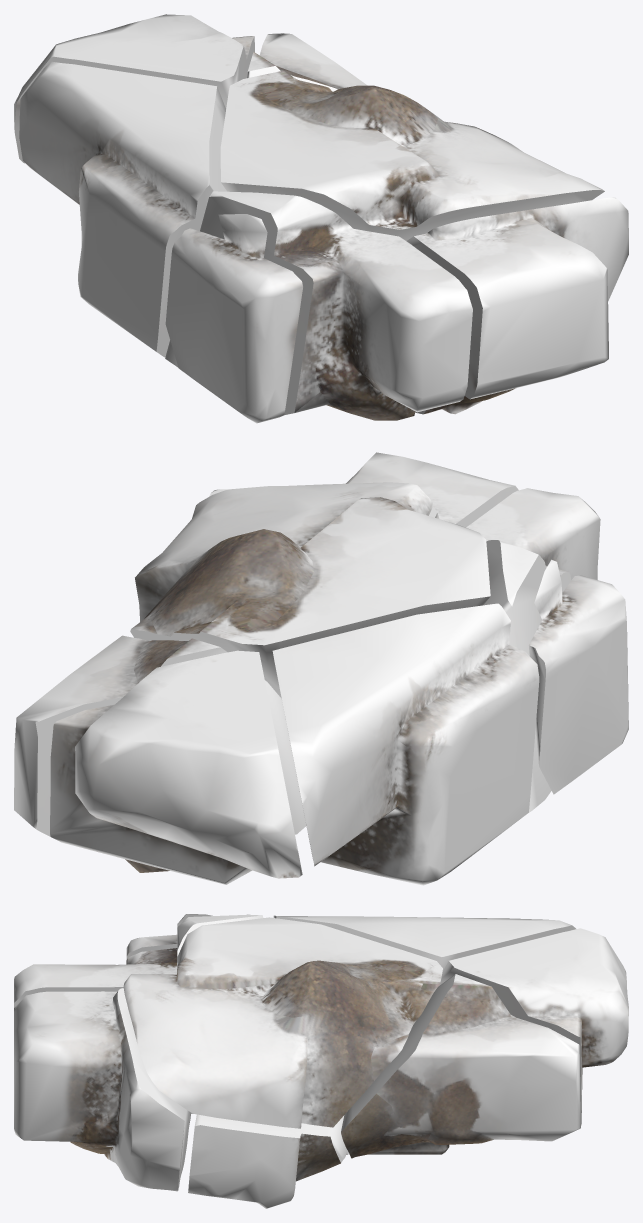
The model's file is SM_MetalNode_4a_Pieces.fbx.
3 renders of one model, top to bottom at view 1: azimuth 30°, elevation 25°; view 2: azimuth 150°, elevation 25°; view 3: azimuth 270°, elevation 25°, orthographic. The views are drawn at different scales.
Parts seen in each view (by area): view 1: SM_MetalNode_4a_Pieces_cell_5, SM_MetalNode_4a_Pieces_cell_2, SM_MetalNode_4a_Pieces_cell_3, SM_MetalNode_4a_Pieces_cell_6, SM_MetalNode_4a_Pieces_cell_1, SM_MetalNode_4a_Pieces_cell_4, SM_MetalNode_4a_Pieces_cell_7; view 2: SM_MetalNode_4a_Pieces_cell_2, SM_MetalNode_4a_Pieces_cell_5, SM_MetalNode_4a_Pieces_cell_4, SM_MetalNode_4a_Pieces_cell_1, SM_MetalNode_4a_Pieces_cell_7, SM_MetalNode_4a_Pieces_cell_3, SM_MetalNode_4a_Pieces_cell_6; view 3: SM_MetalNode_4a_Pieces_cell_5, SM_MetalNode_4a_Pieces_cell_7, SM_MetalNode_4a_Pieces_cell_6, SM_MetalNode_4a_Pieces_cell_4, SM_MetalNode_4a_Pieces_cell_8, SM_MetalNode_4a_Pieces_cell_2, SM_MetalNode_4a_Pieces_cell_3, SM_MetalNode_4a_Pieces_cell_1.
Part boxes in pixels (x1,y1,x2,y2): SM_MetalNode_4a_Pieces_cell_5: (220,70,604,240); SM_MetalNode_4a_Pieces_cell_2: (19,61,226,357); SM_MetalNode_4a_Pieces_cell_3: (165,191,472,420); SM_MetalNode_4a_Pieces_cell_6: (406,197,628,414); SM_MetalNode_4a_Pieces_cell_1: (165,214,302,423); SM_MetalNode_4a_Pieces_cell_4: (14,14,254,163); SM_MetalNode_4a_Pieces_cell_7: (247,33,367,91); SM_MetalNode_4a_Pieces_cell_2: (272,603,539,885); SM_MetalNode_4a_Pieces_cell_5: (130,482,490,698); SM_MetalNode_4a_Pieces_cell_4: (50,650,302,884); SM_MetalNode_4a_Pieces_cell_1: (528,559,628,794); SM_MetalNode_4a_Pieces_cell_7: (14,635,306,836); SM_MetalNode_4a_Pieces_cell_3: (466,488,600,812); SM_MetalNode_4a_Pieces_cell_6: (209,452,518,527); SM_MetalNode_4a_Pieces_cell_5: (123,917,442,1128); SM_MetalNode_4a_Pieces_cell_7: (341,974,580,1158); SM_MetalNode_4a_Pieces_cell_6: (14,988,190,1191); SM_MetalNode_4a_Pieces_cell_4: (438,928,628,1125); SM_MetalNode_4a_Pieces_cell_8: (188,1114,348,1208); SM_MetalNode_4a_Pieces_cell_2: (273,915,575,970); SM_MetalNode_4a_Pieces_cell_3: (14,914,263,1113); SM_MetalNode_4a_Pieces_cell_1: (126,914,212,959).
Size of the model in its own units: 0.7463 by 0.4567 by 1.2.
